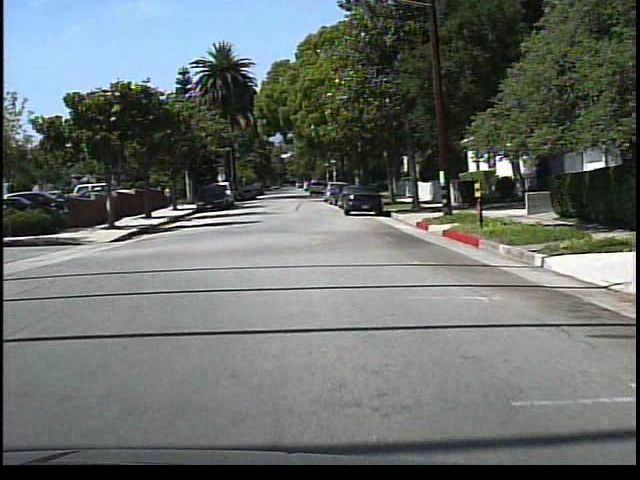person: (162, 182, 176, 209)
